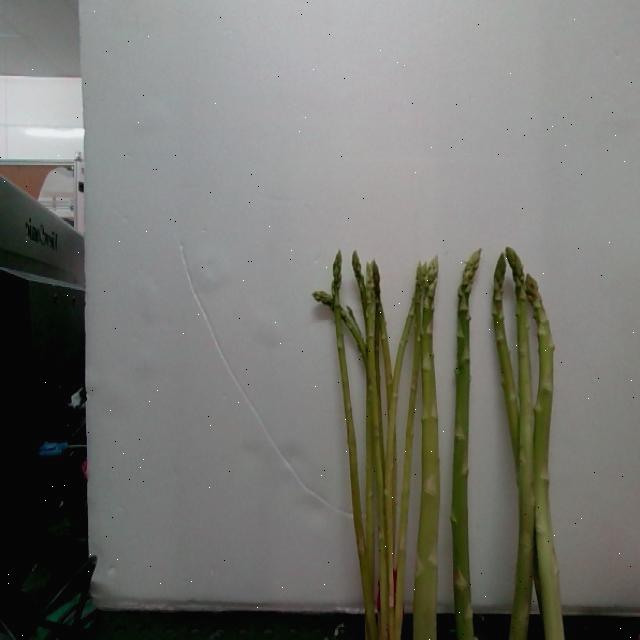aspargus: (524, 269, 563, 640), (454, 249, 486, 640), (413, 254, 442, 640)
